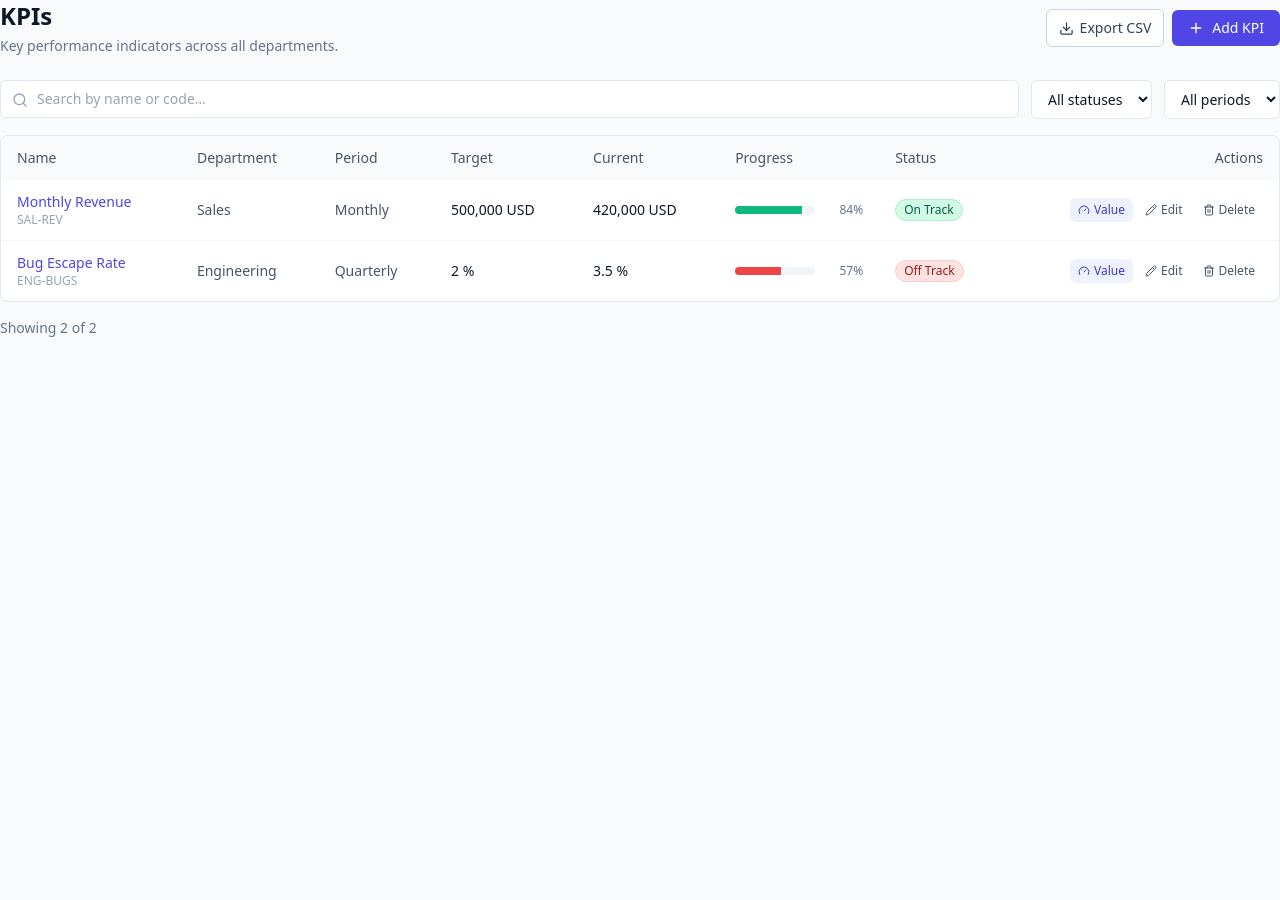
Test: KpisPage Integration & Workflow Tests › Add and Edit KPI Modal Workflows › opens Add KPI modal, submits new KPI payload, and displays success toast
The image size is (1280, 900).
Expected: the link "Monthly Revenue" is shown, [17, 192, 132, 211]
Click the button "Add KPI". click: click(1226, 28)
box: [1172, 10, 1279, 46]
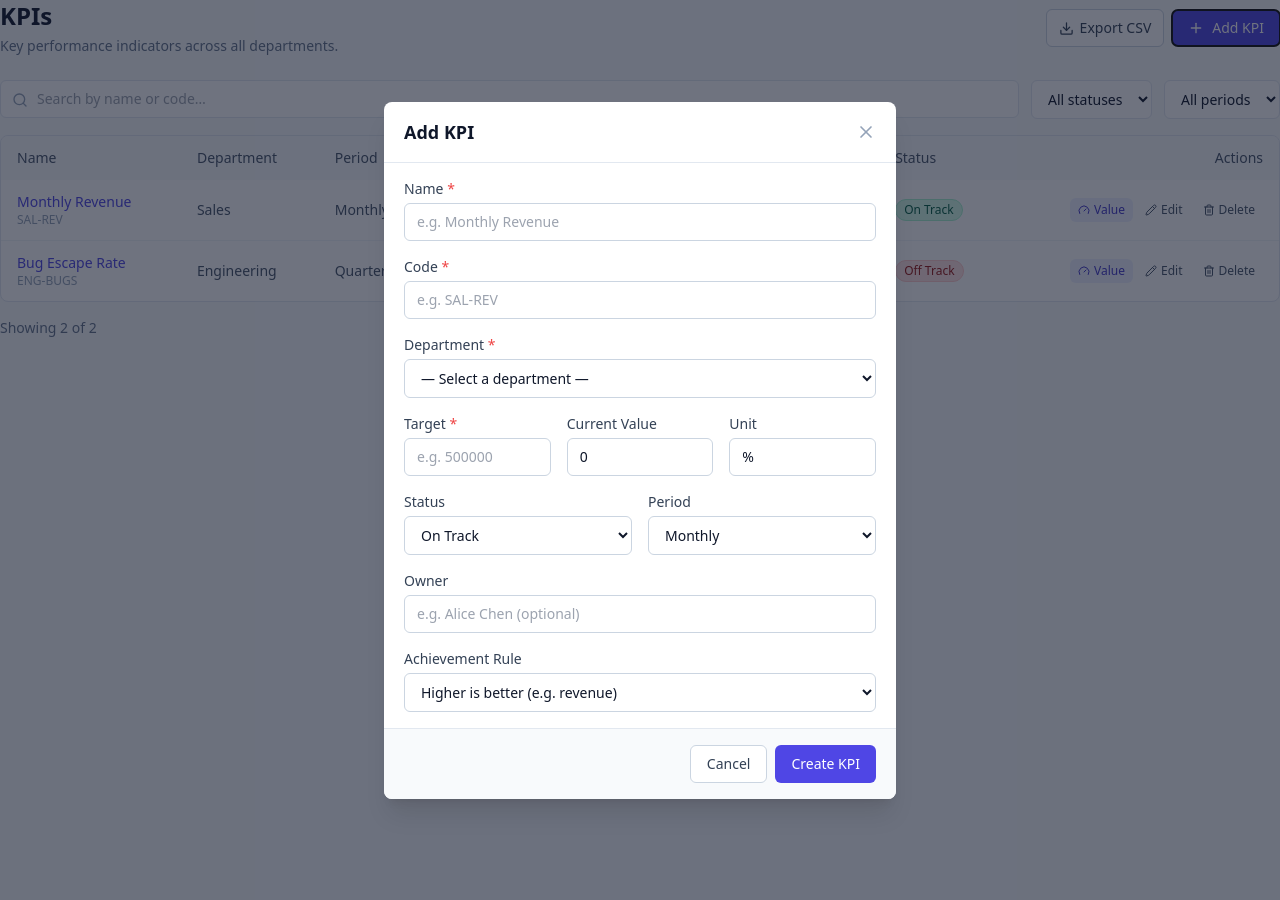
Expected: the heading "Add KPI" is shown, [404, 118, 474, 146]
Note: Fill in required fields
Type "Customer Retention" into the field labelled "Name *". click: (640, 222)
box: [404, 202, 876, 240]
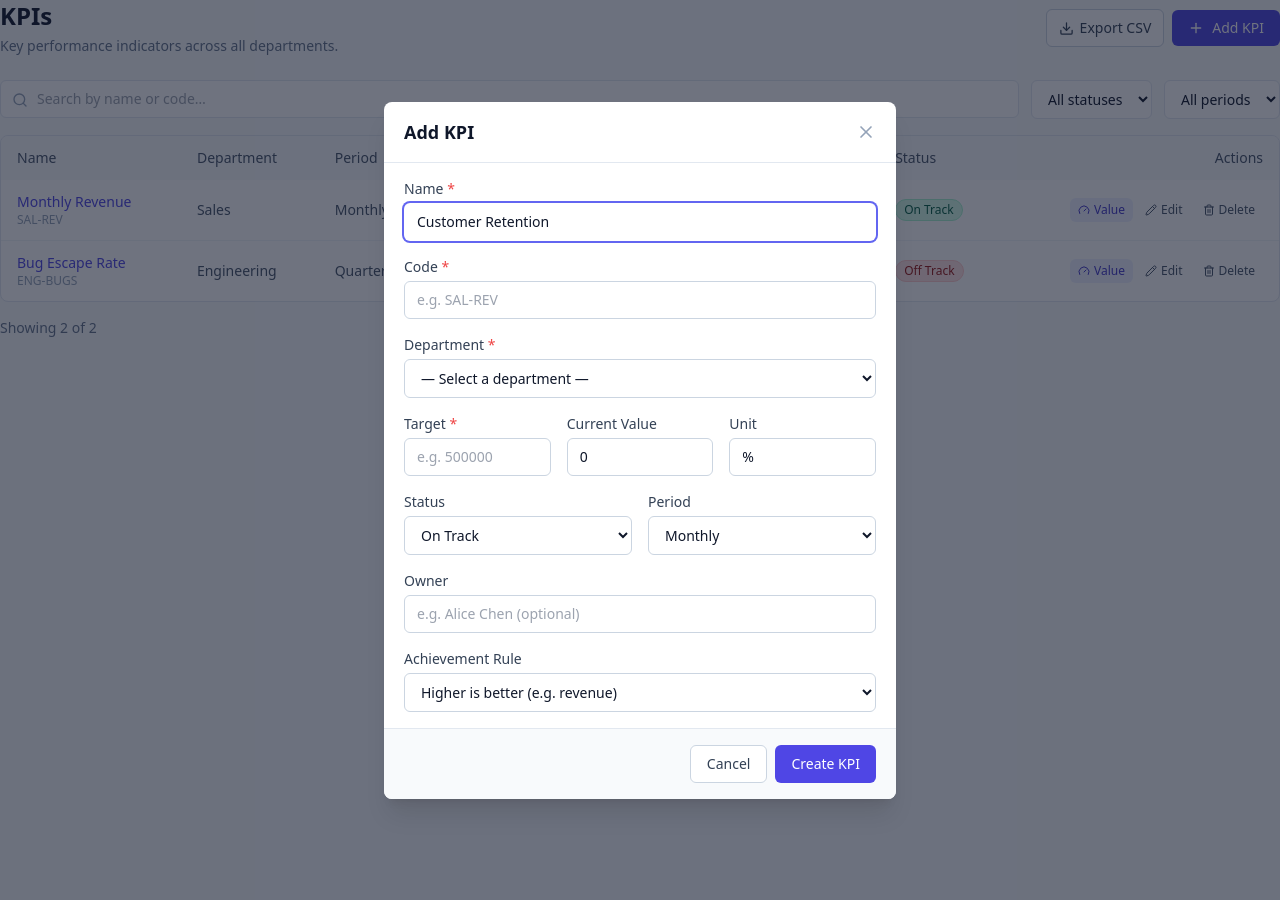
Type "cs-ret" into the field labelled "Code *". click: (640, 300)
box: [404, 280, 876, 318]
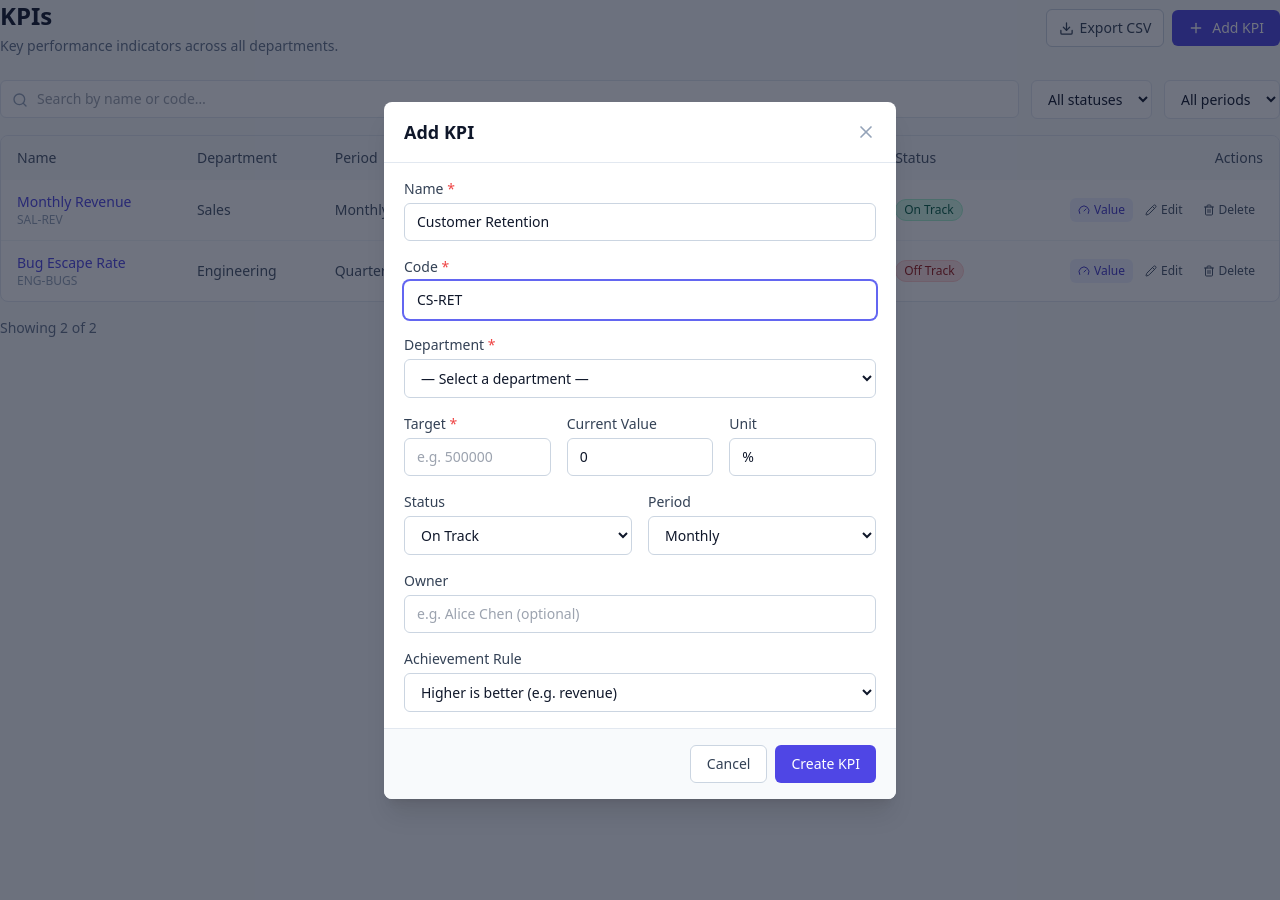
Select "Sales" in the dropdown labelled "Department *". click: (640, 378)
box: [404, 358, 876, 398]
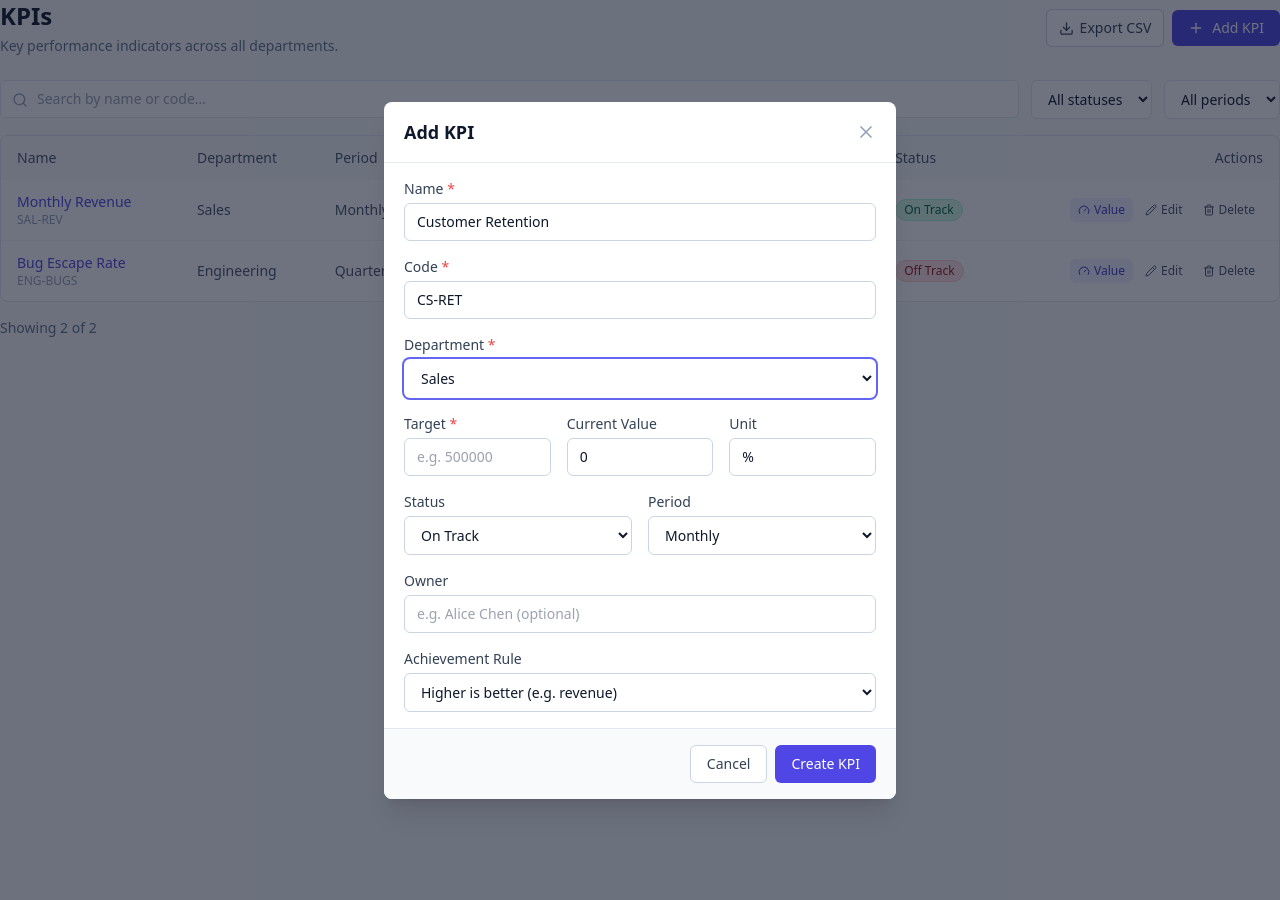
Type "95" into the number field labelled "Target *". click: (477, 456)
box: [404, 438, 551, 476]
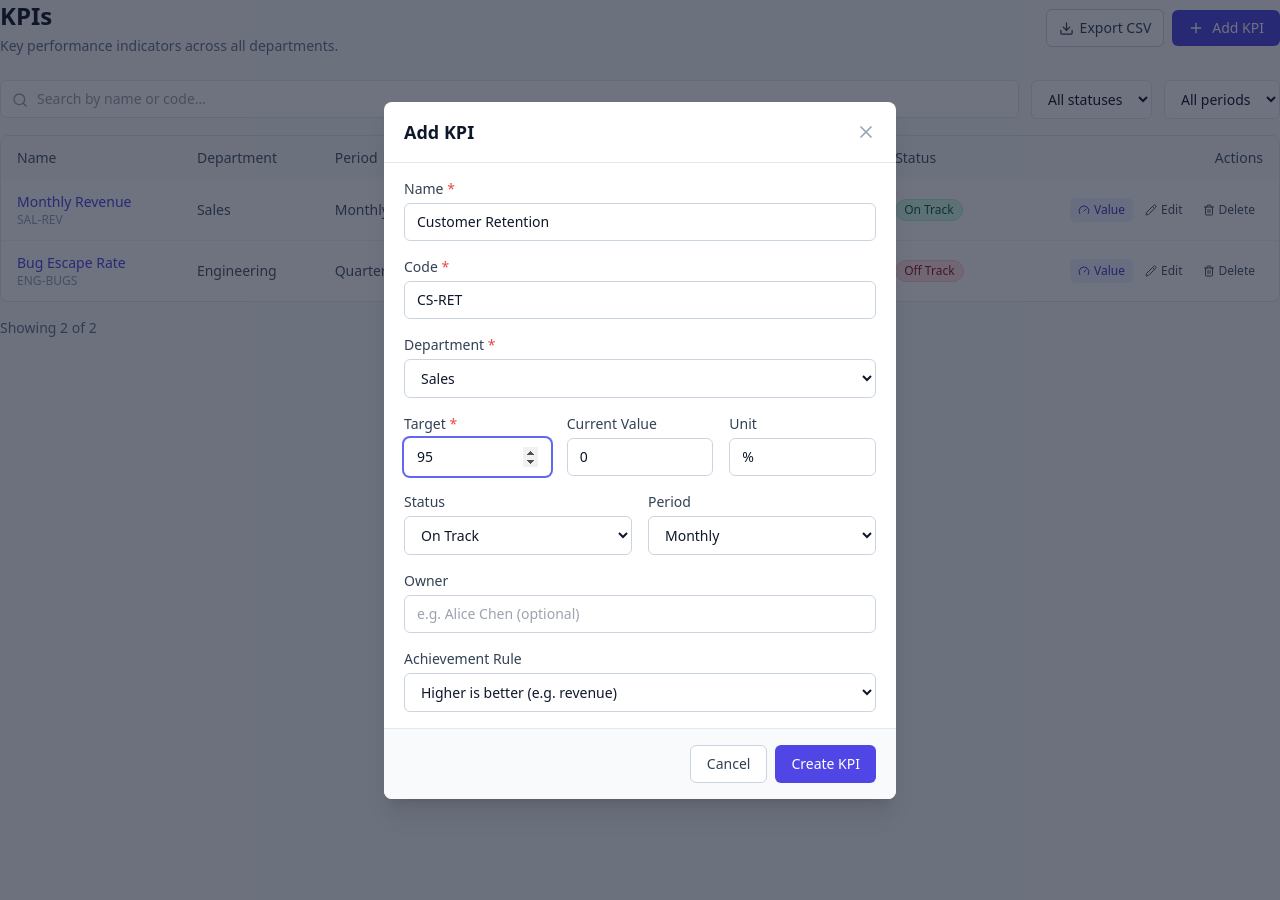
Click the button "Create KPI". click: click(826, 764)
box: [775, 744, 876, 782]
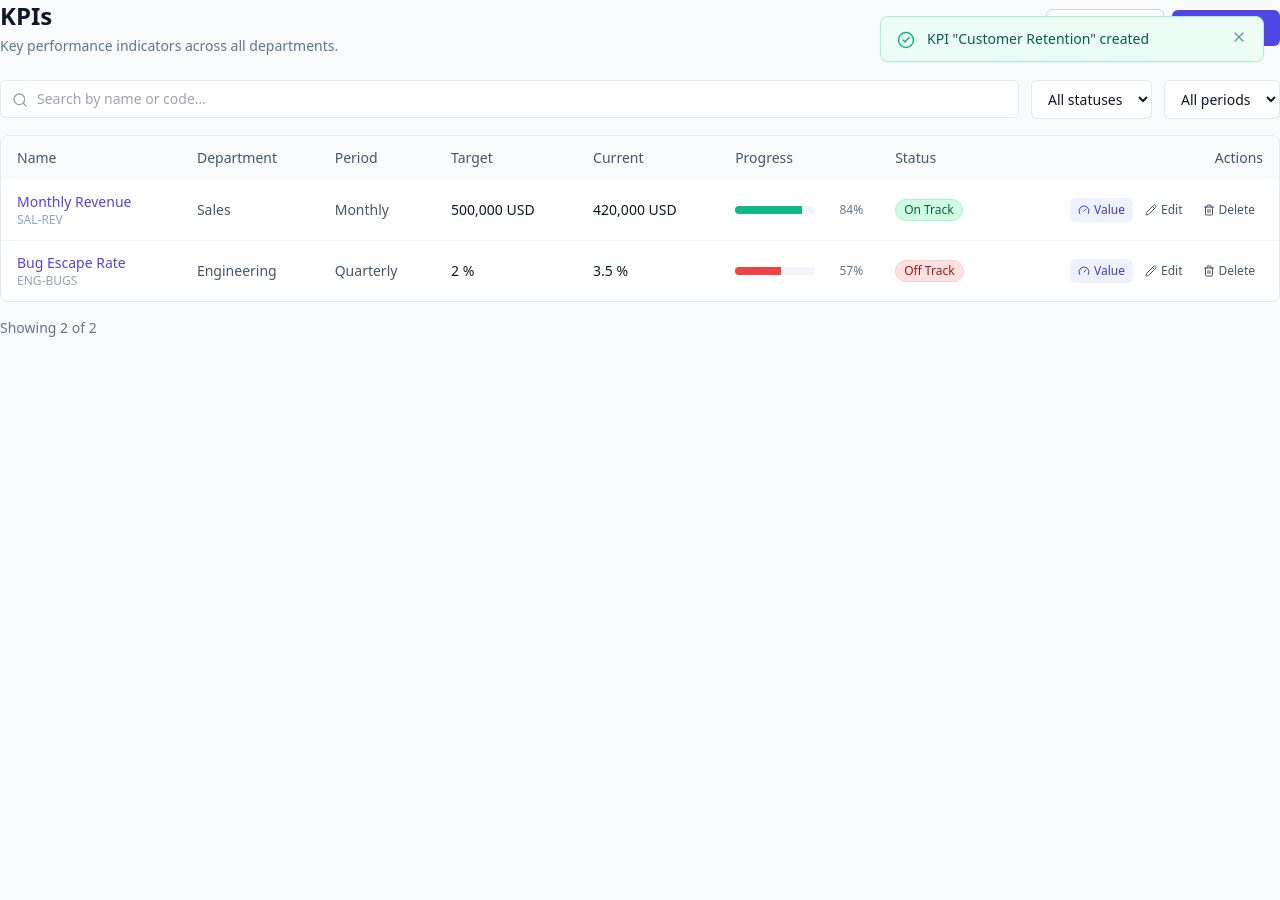
Expected: the text "KPI \"Customer Retention\" created" is shown, [927, 29, 1149, 48]
